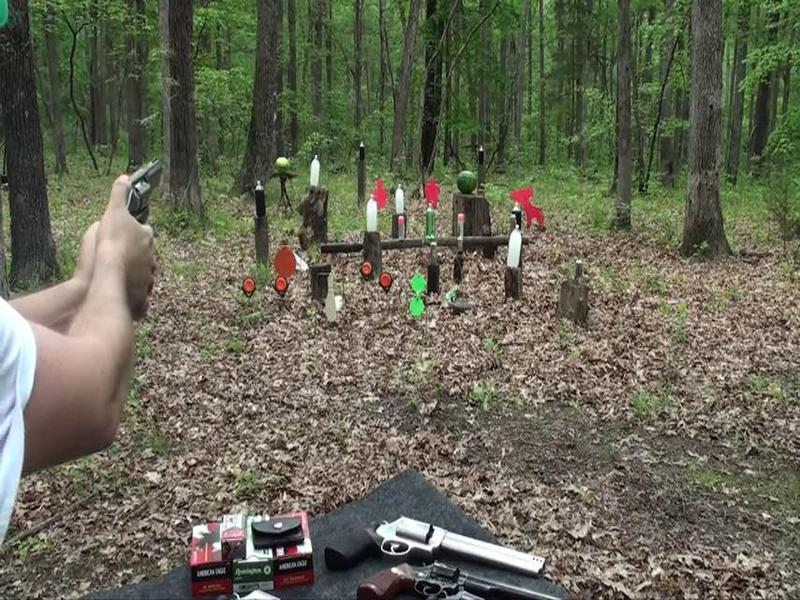Revolver: (107, 150, 203, 276)
